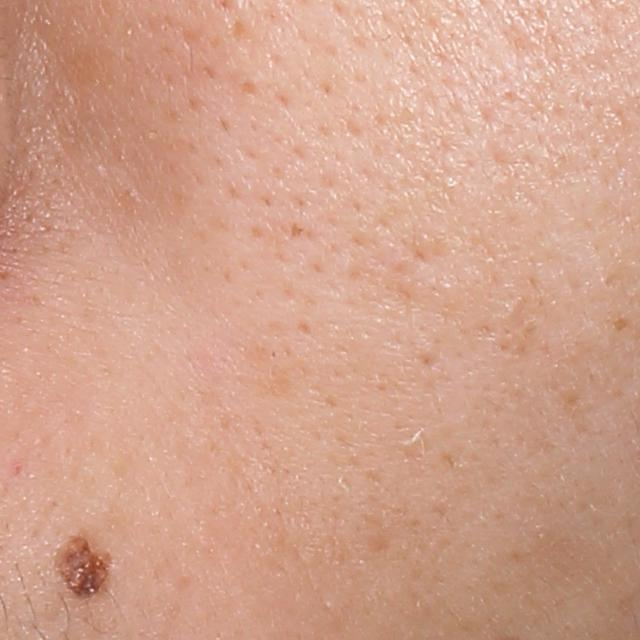nevus: (51, 529, 116, 606)
